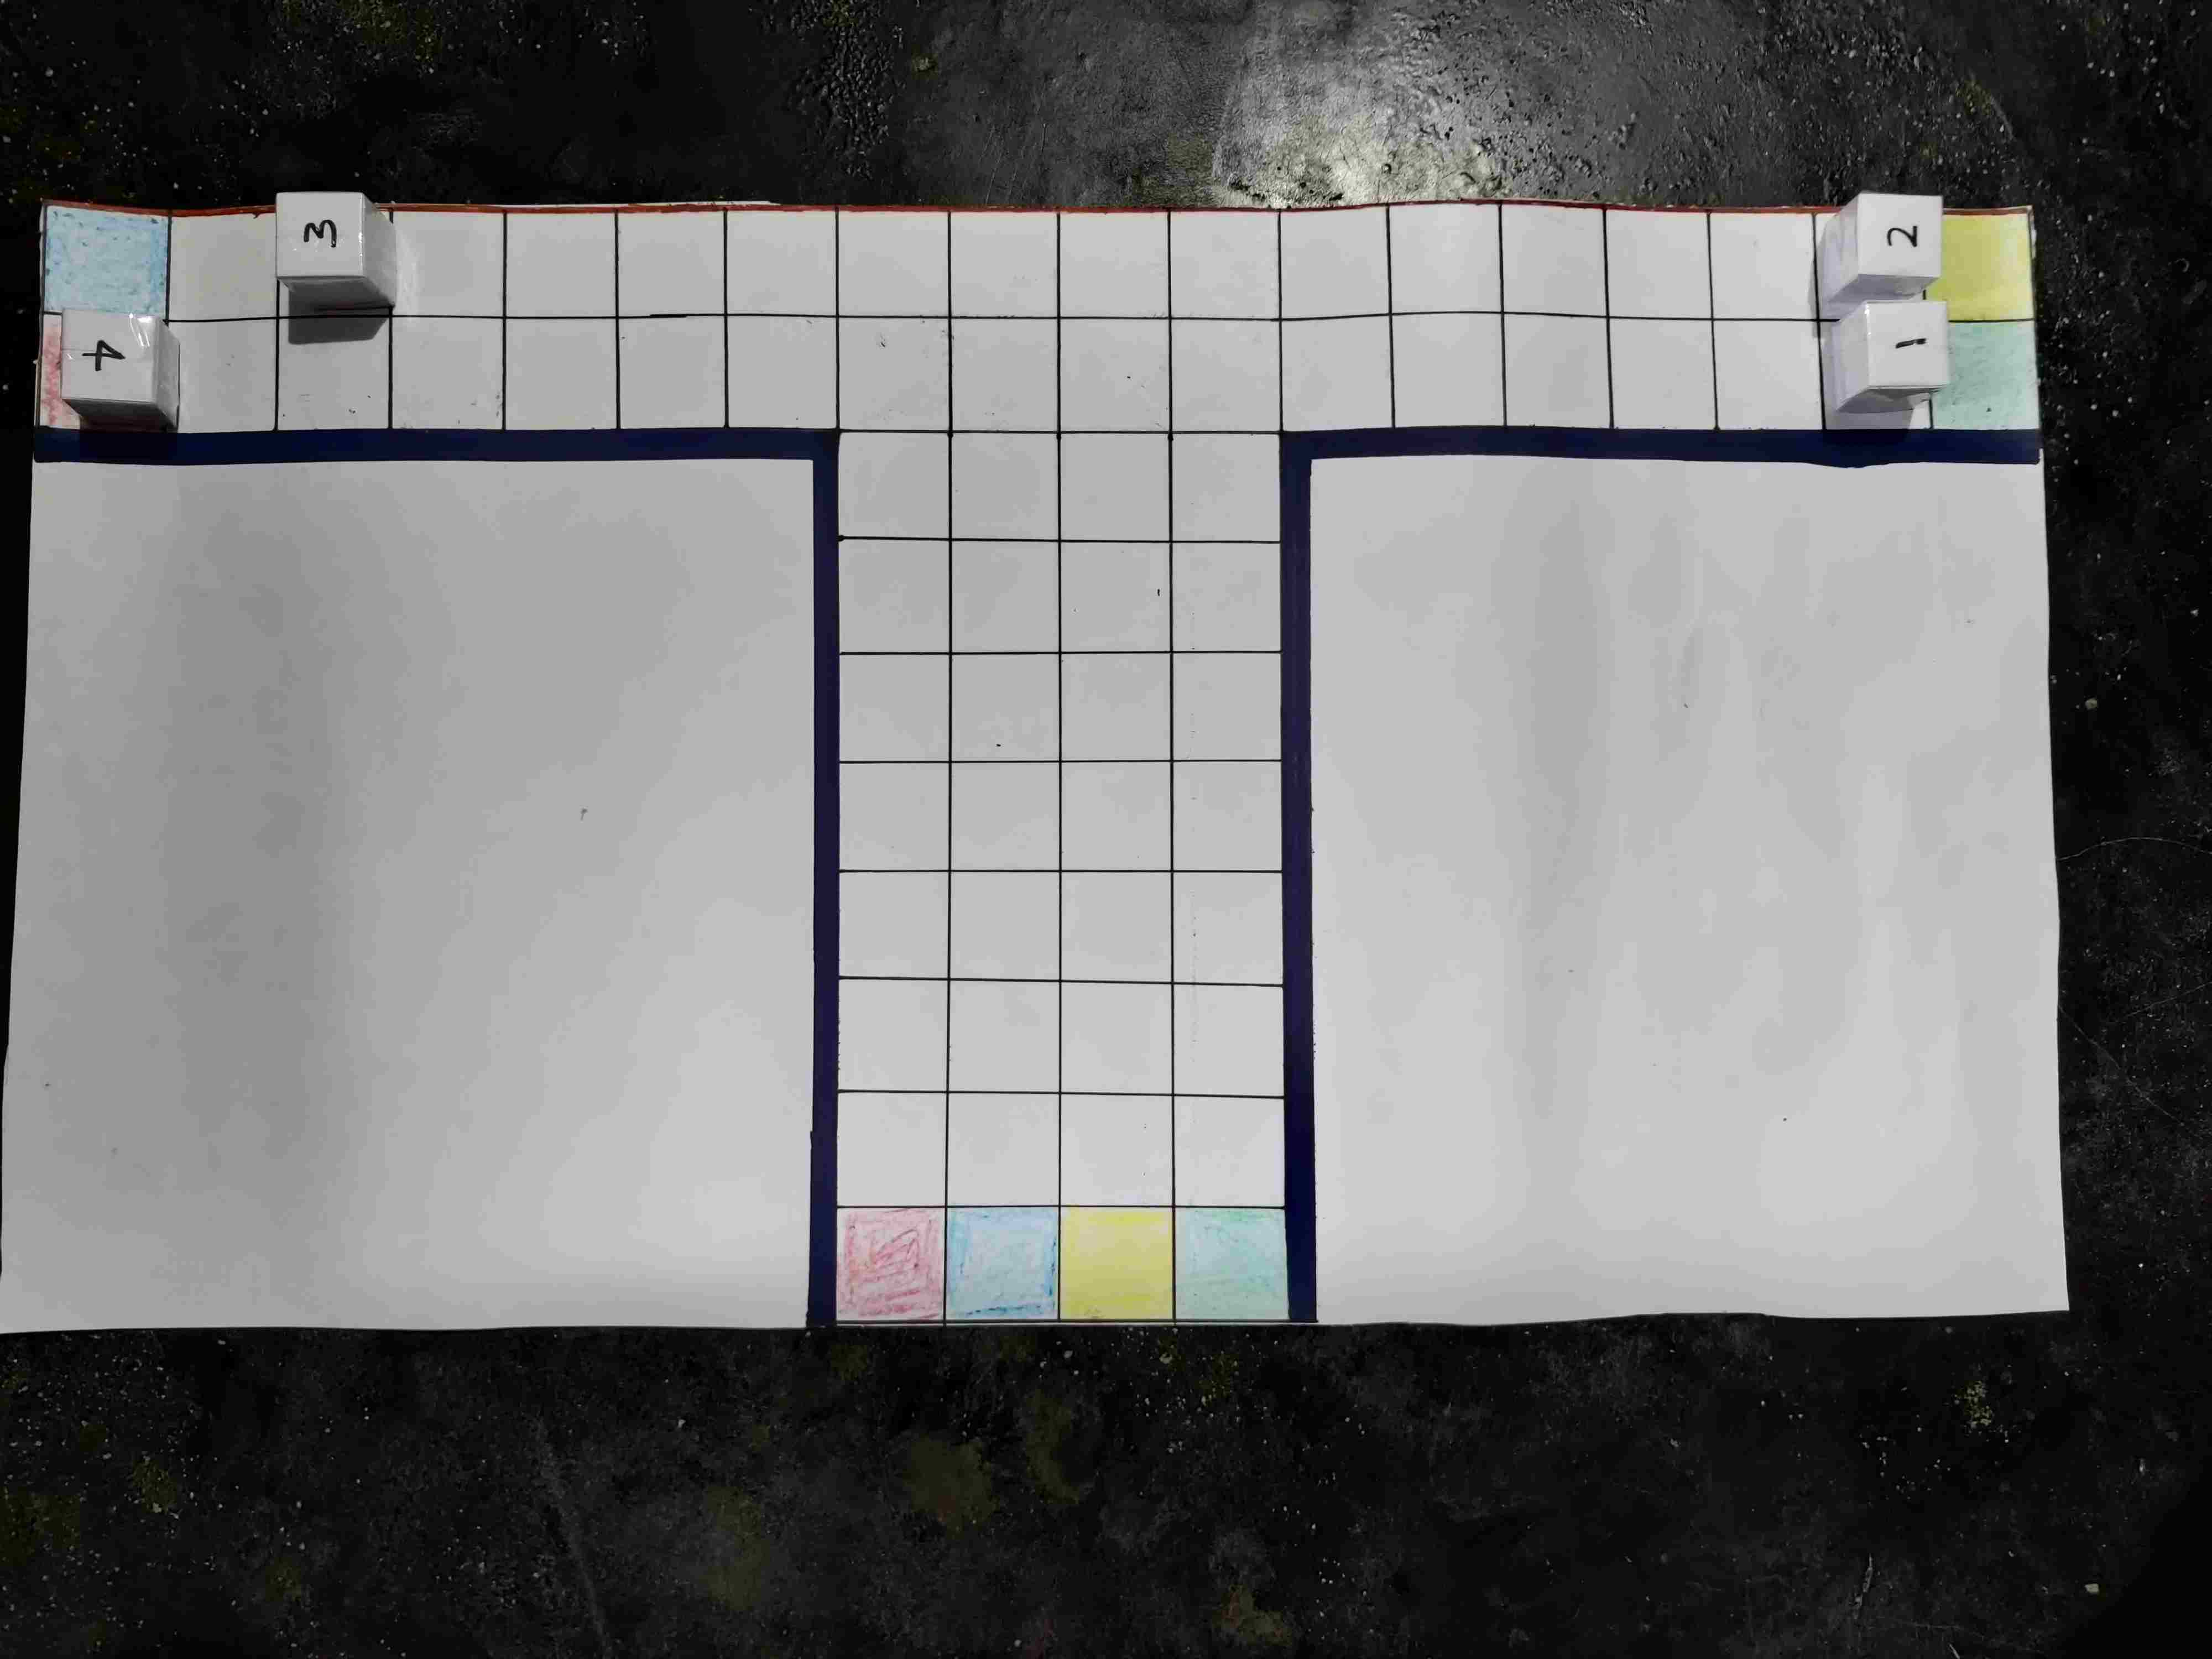arena: (63, 197, 2099, 1364)
bot: (1787, 1272, 1878, 1368), (230, 1262, 317, 1354), (1195, 1140, 1282, 1232), (833, 784, 920, 864)
